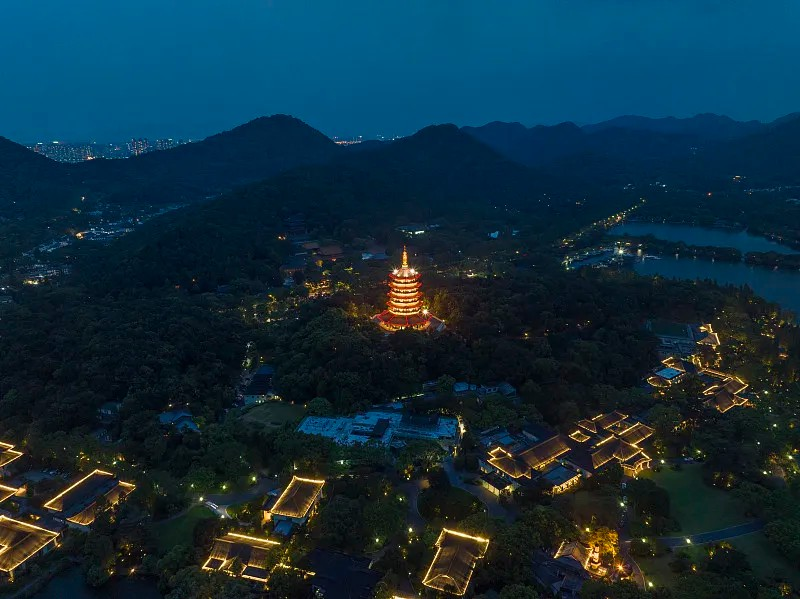Leifeng: (382, 244, 426, 327)
